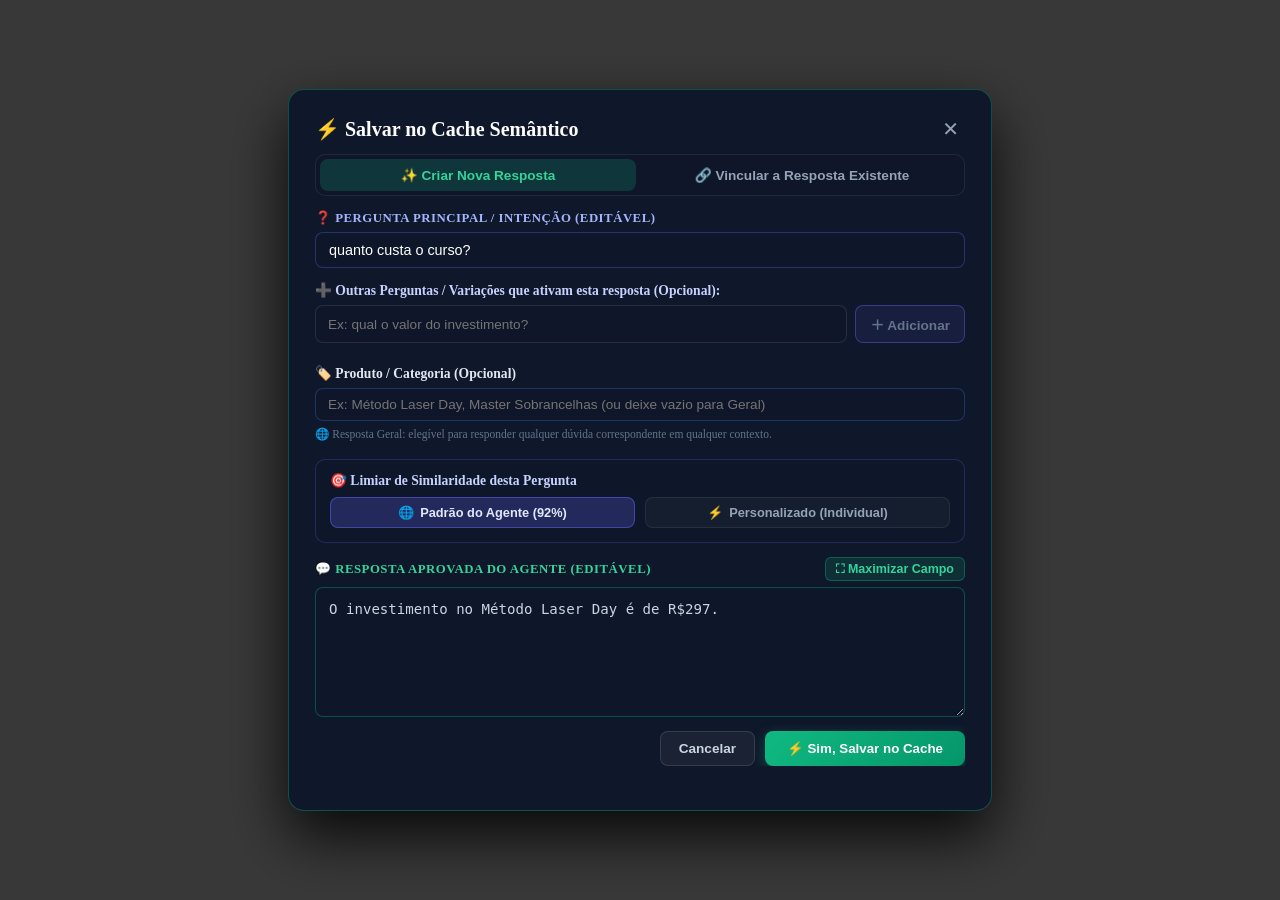
ApproveCacheModal Component › deve abrir popup gigante de tela cheia ao clicar no botão de maximizar campo
Click the button with test id "toggle-maximize-response-btn" at {"x": 895, "y": 569}, box [825,557,965,581]
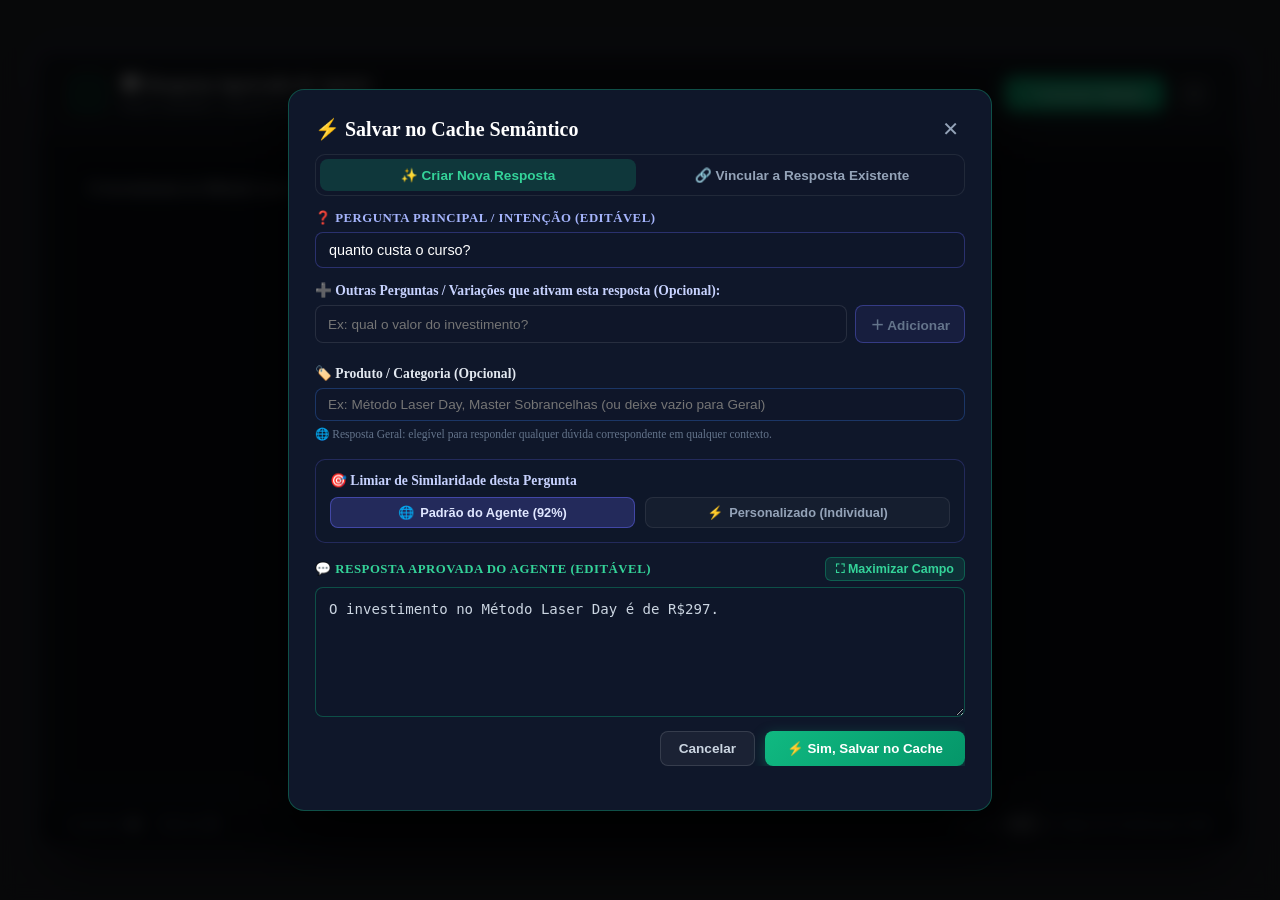
Check: the text "Edição expandida e confortável da resposta oficial" is shown, box [120,99,590,113]
